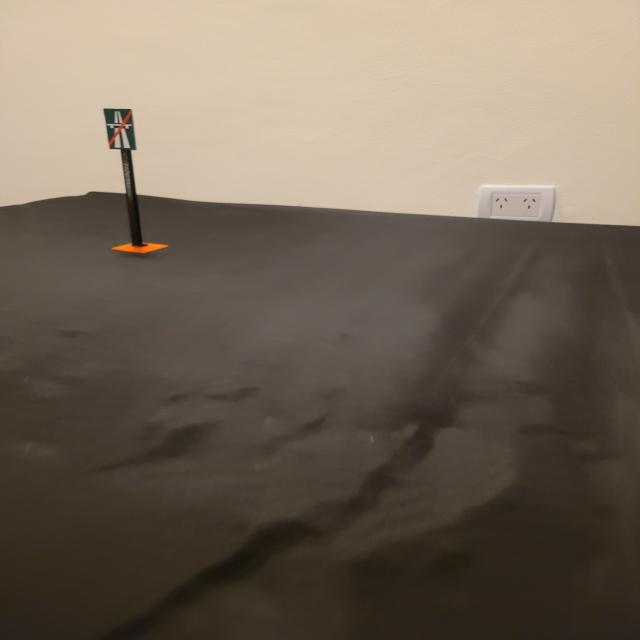highway_exit: (103, 108, 137, 150)
